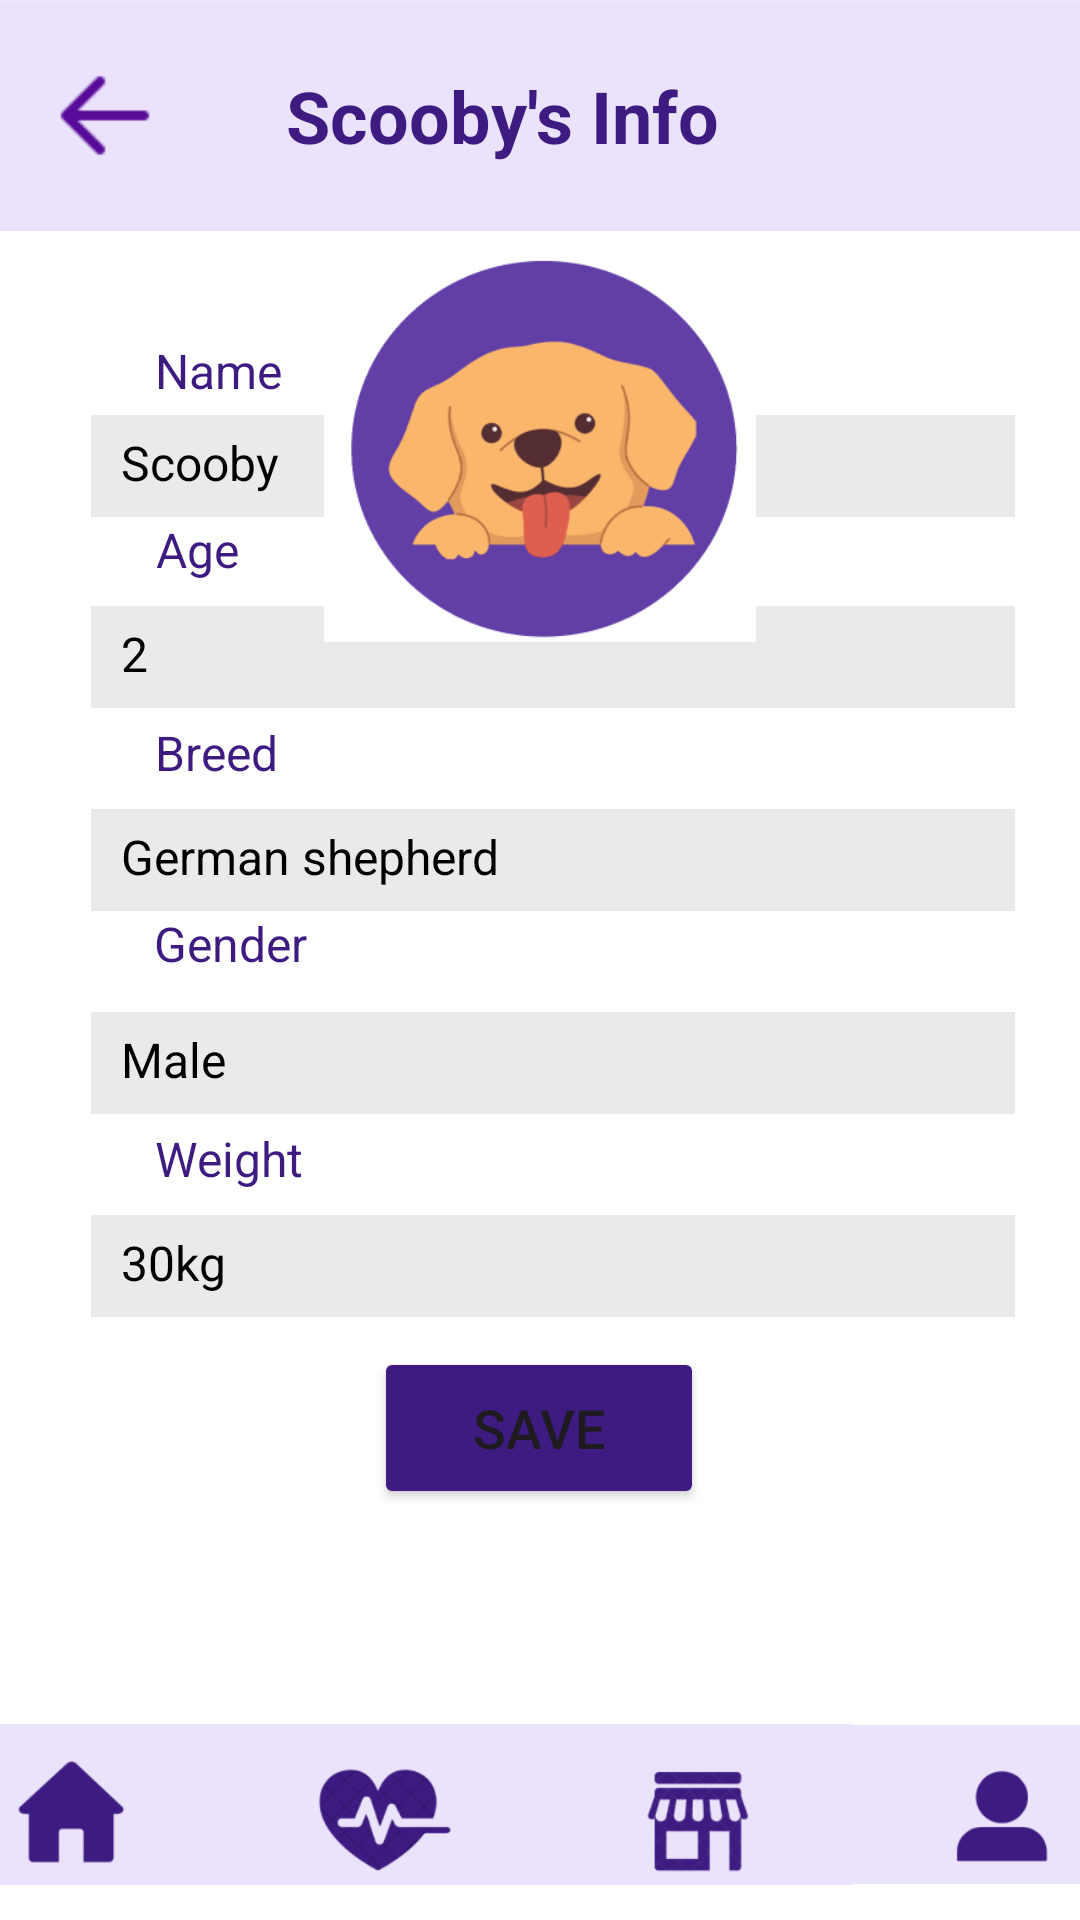

Screen size 1080px×1920px. Icon name, then its box in pixels as (x1, y1, x2, y2):
arrowback: (60, 76, 150, 155)
